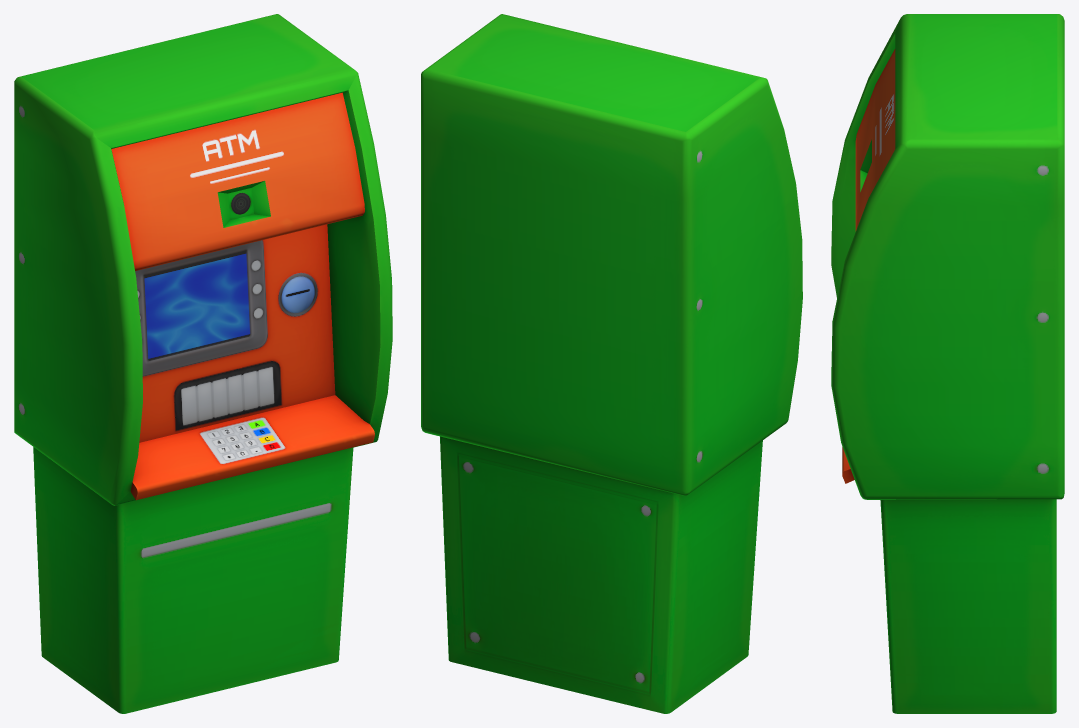
The model's file is BankATM01.FBX.
The picture shows the model from 3 angles, left to right: view 1: azimuth 30°, elevation 25°; view 2: azimuth 150°, elevation 25°; view 3: azimuth 270°, elevation 25°; orthographic projection.
Parts seen in each view (by area): view 1: BankATM01; view 2: BankATM01; view 3: BankATM01.
Boxes of the visible parts, bbox=[...] form: BankATM01: bbox=[14, 14, 392, 713]; BankATM01: bbox=[421, 14, 802, 713]; BankATM01: bbox=[831, 14, 1064, 713].
Size of what is drawn, in the model's own units: 0.9711 by 2.01 by 0.7302.
